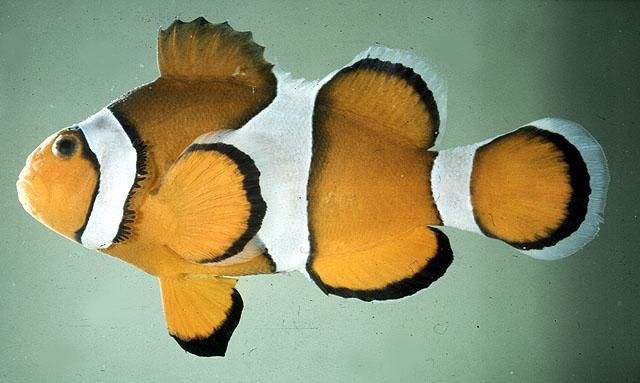Mulut: (1, 153, 61, 233)
Sirip Anal: (296, 216, 464, 308)
Sirip Dada: (150, 121, 298, 270)
Sirip Ekor: (460, 108, 620, 272), (146, 263, 254, 373)
Sirip Punggung: (152, 10, 452, 162)
